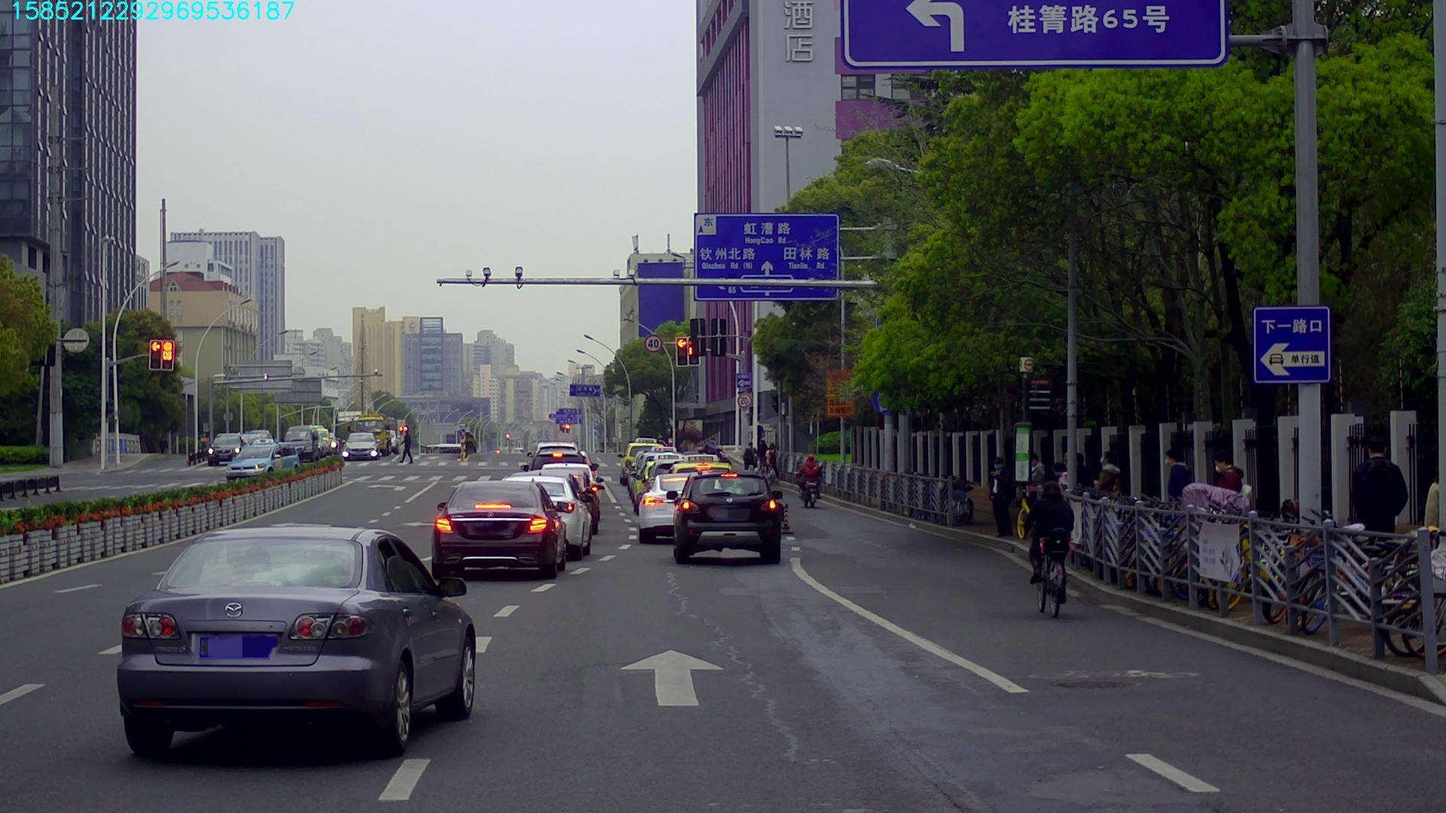red: (687, 336, 699, 364), (161, 340, 172, 370), (676, 337, 688, 364), (149, 340, 160, 369)
